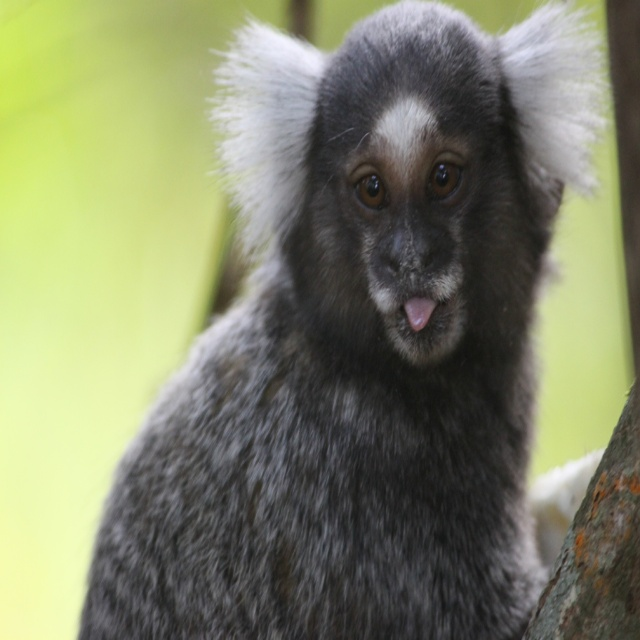Monkey: (75, 0, 623, 640)
